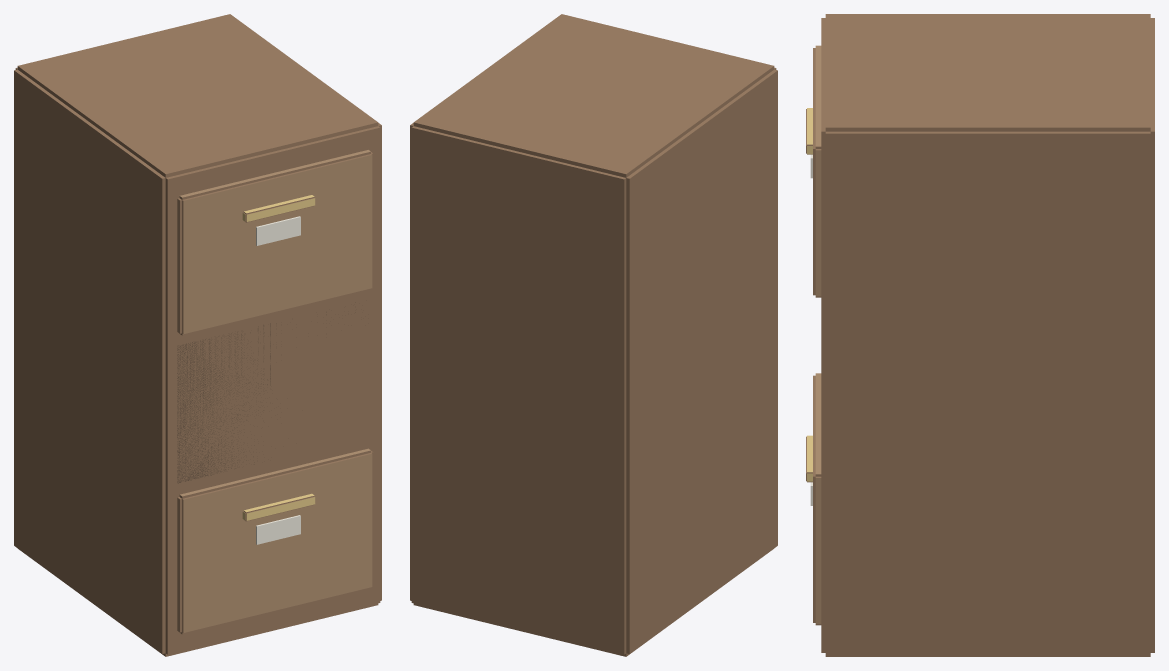
The model's file is archivero_cuerpo.glb.
The picture shows the model from 3 angles, left to right: view 1: azimuth 30°, elevation 25°; view 2: azimuth 150°, elevation 25°; view 3: azimuth 270°, elevation 25°; orthographic projection. The views are drawn at different scales.
Visible parts, largest first — view 1: archivero_cuerpo; view 2: archivero_cuerpo; view 3: archivero_cuerpo.
Part boxes in pixels (box(x1,y1,x2,y2)): archivero_cuerpo: box(14, 14, 381, 656); archivero_cuerpo: box(410, 14, 777, 656); archivero_cuerpo: box(806, 14, 1154, 656).
Size of the model in its own units: 0.5 by 1.05 by 0.6275.
